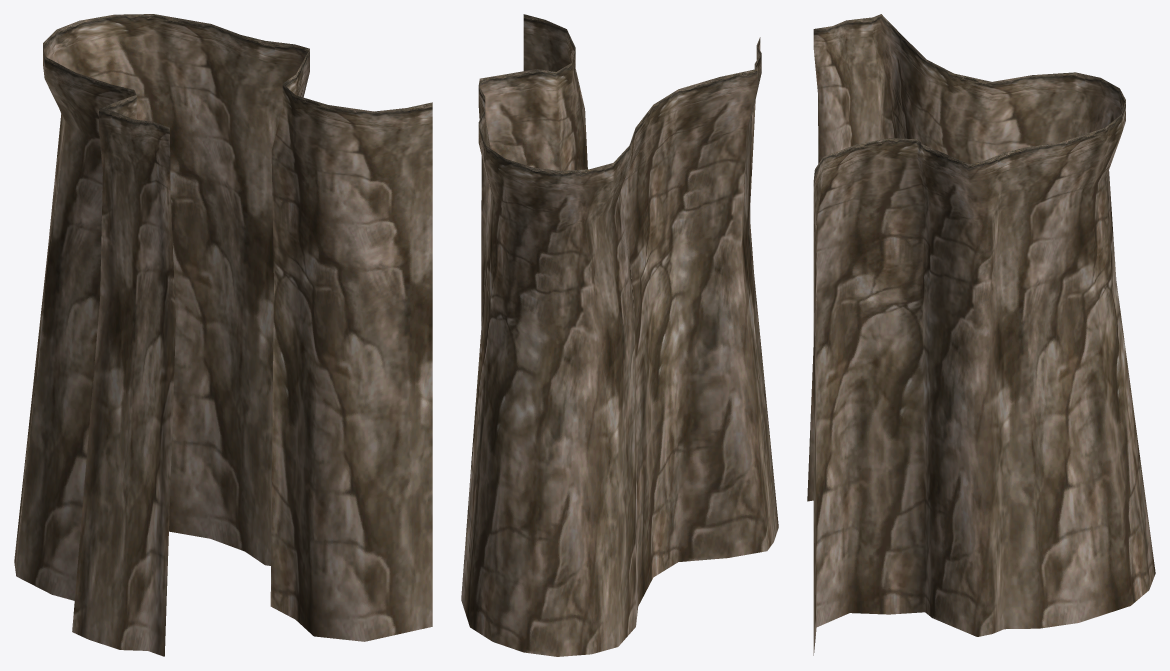
The model's file is OVERHILL_A_01_LINE63.fbx.
3 renders of one model, left to right at view 1: azimuth 30°, elevation 25°; view 2: azimuth 150°, elevation 25°; view 3: azimuth 270°, elevation 25°, orthographic. The views are drawn at different scales.
Visible parts, largest first — view 1: OVERHILL_A_01_LINE63; view 2: OVERHILL_A_01_LINE63; view 3: OVERHILL_A_01_LINE63.
Boxes of the visible parts, bbox=[...] form: OVERHILL_A_01_LINE63: bbox=[14, 14, 432, 656]; OVERHILL_A_01_LINE63: bbox=[461, 14, 778, 656]; OVERHILL_A_01_LINE63: bbox=[807, 14, 1155, 655].
Size of the model in its own units: 106787 by 182145 by 112429.
2 materials, 2 textured.
